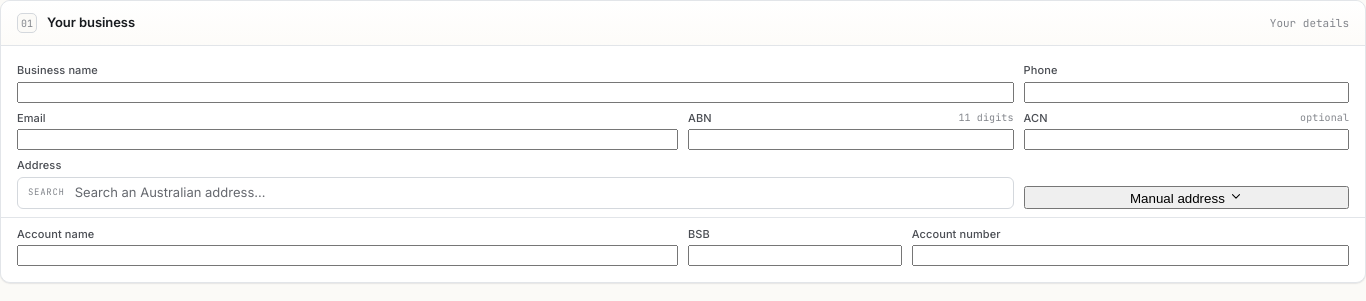
it: BusinessDetailsForm › formats ABN as it is typed
Type "51824753556" into the field labelled "ABN". click: (851, 140)
box: [688, 129, 1014, 150]
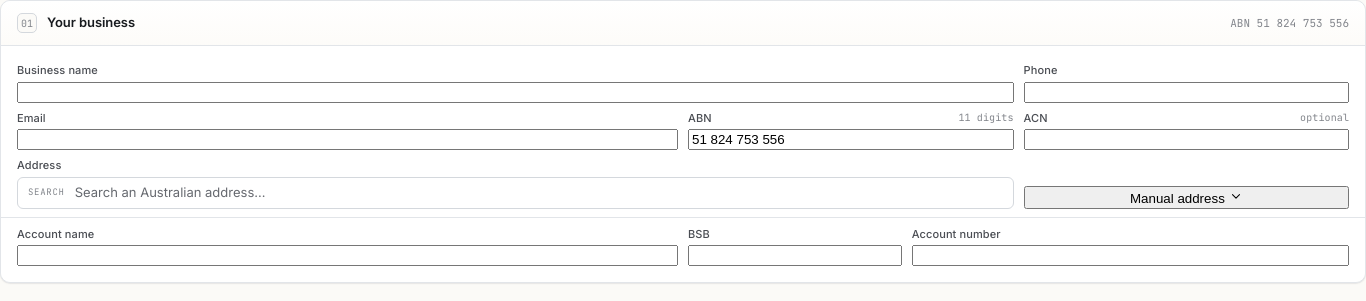
expect the field labelled "ABN" holds "51 824 753 556": met, box [688, 129, 1014, 150]
